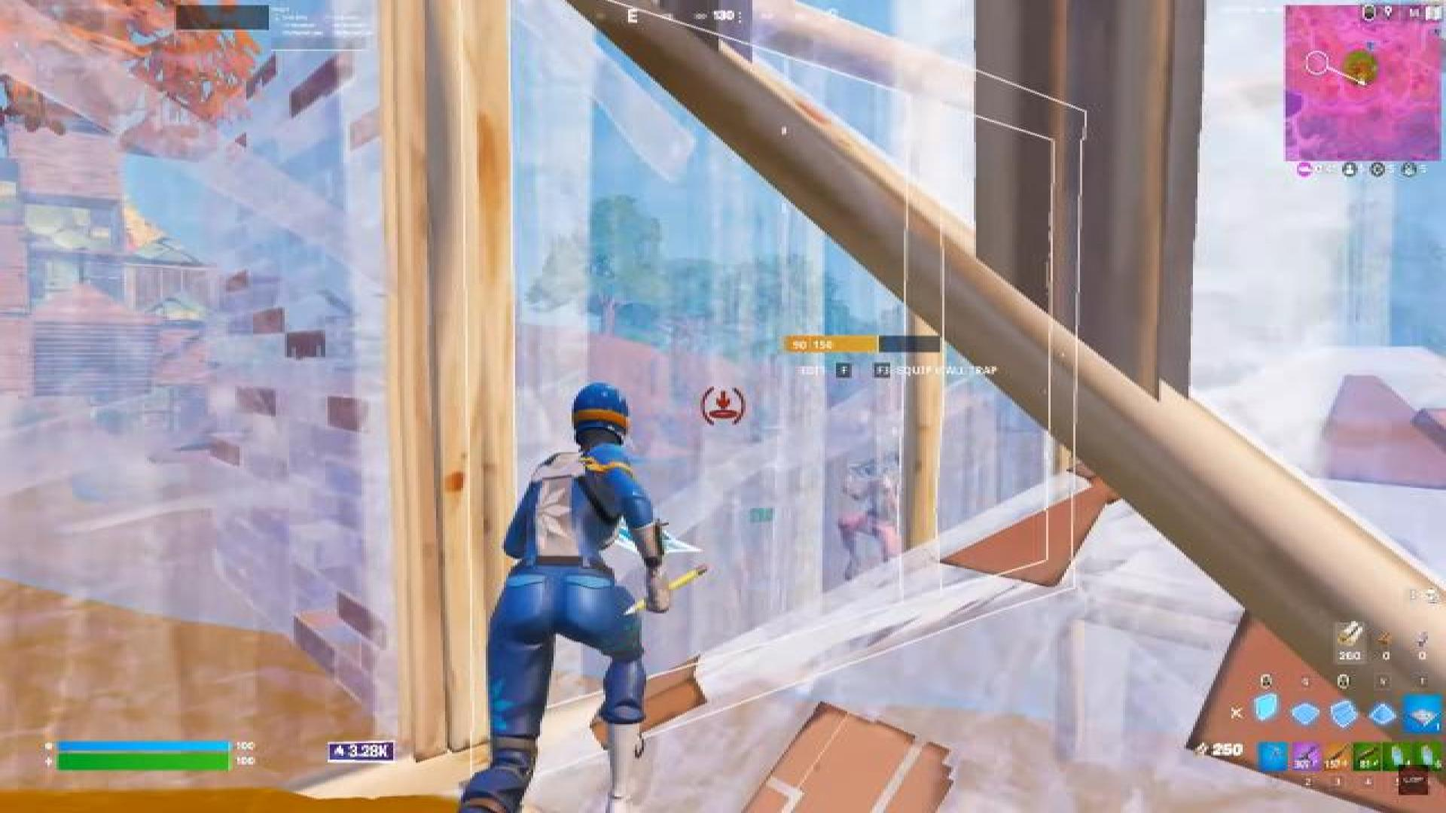player: (843, 455, 911, 573)
